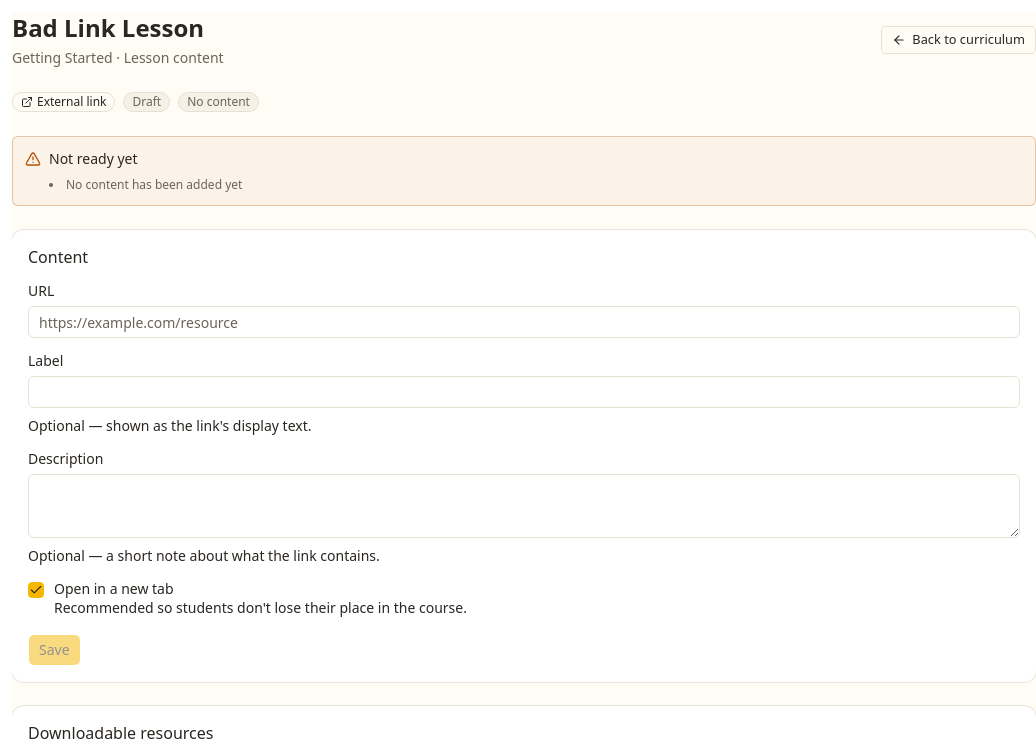
Test: LessonContentEditorPage › rejects a javascript: URL client-side, before any save request
expect the heading "Bad Link Lesson" is shown: met, box x1=12 y1=12 x2=224 y2=44
Type "javascript:alert(1)" into the field labelled "URL" at [524, 322], box x1=28 y1=306 x2=1020 y2=338
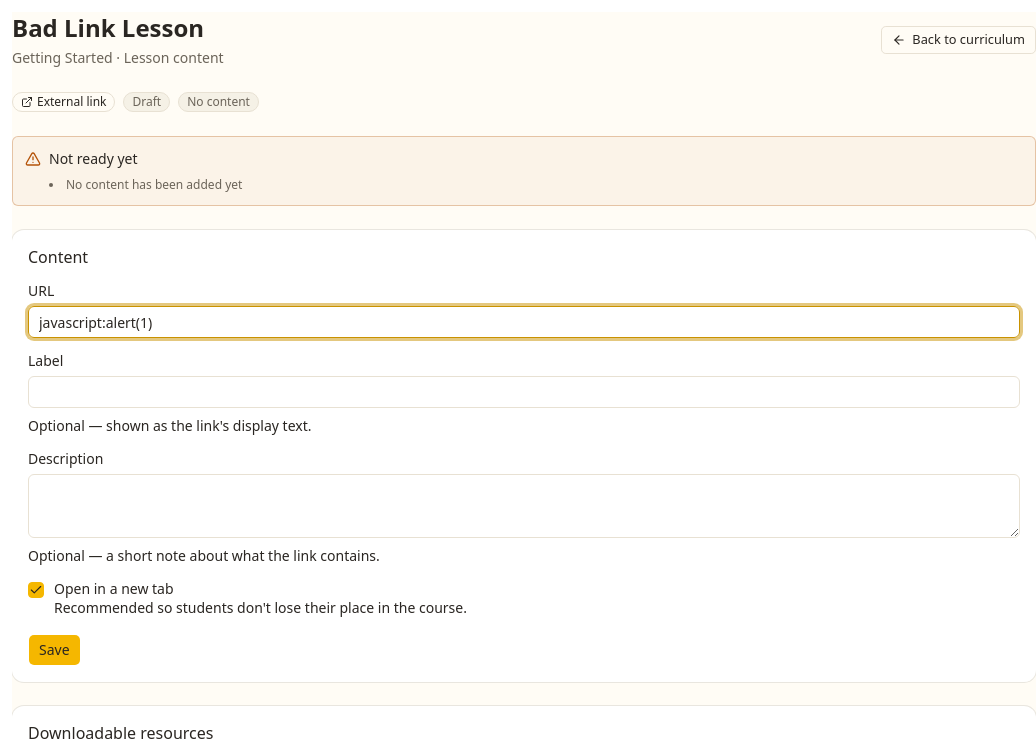
Click the button "Save" at [54, 650], box x1=28 y1=634 x2=81 y2=666
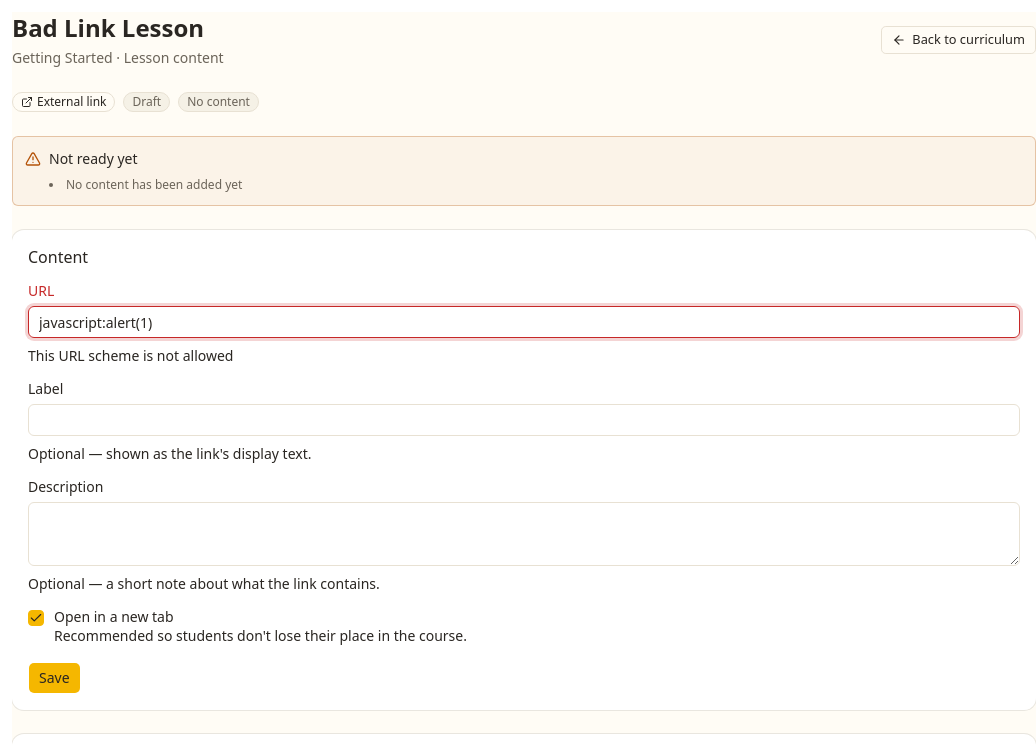
expect the text "This URL scheme is not allowed" is shown: met, box x1=28 y1=346 x2=234 y2=365
